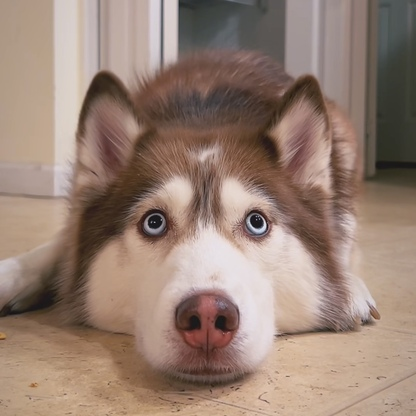husky: (1, 40, 383, 388)
